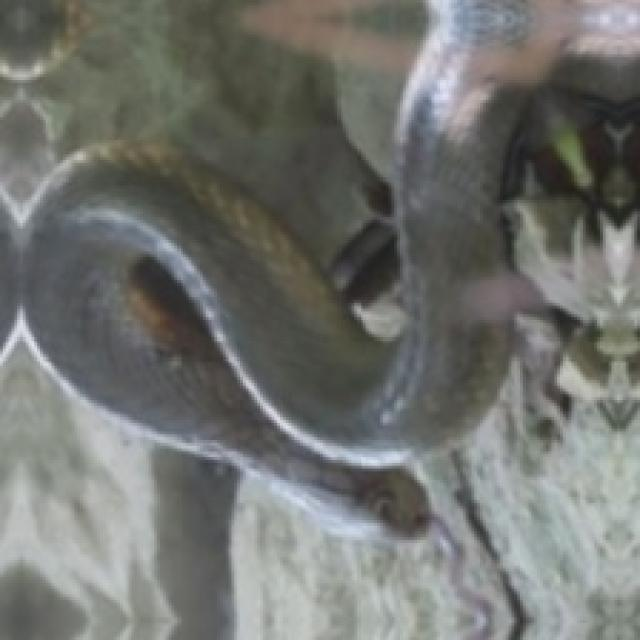king cobra: (3, 0, 637, 637), (303, 443, 434, 540)
